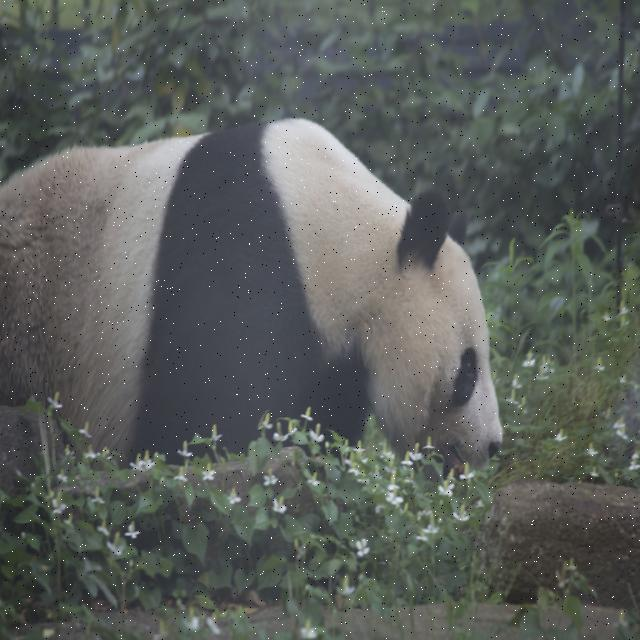panda: (0, 115, 502, 610)
